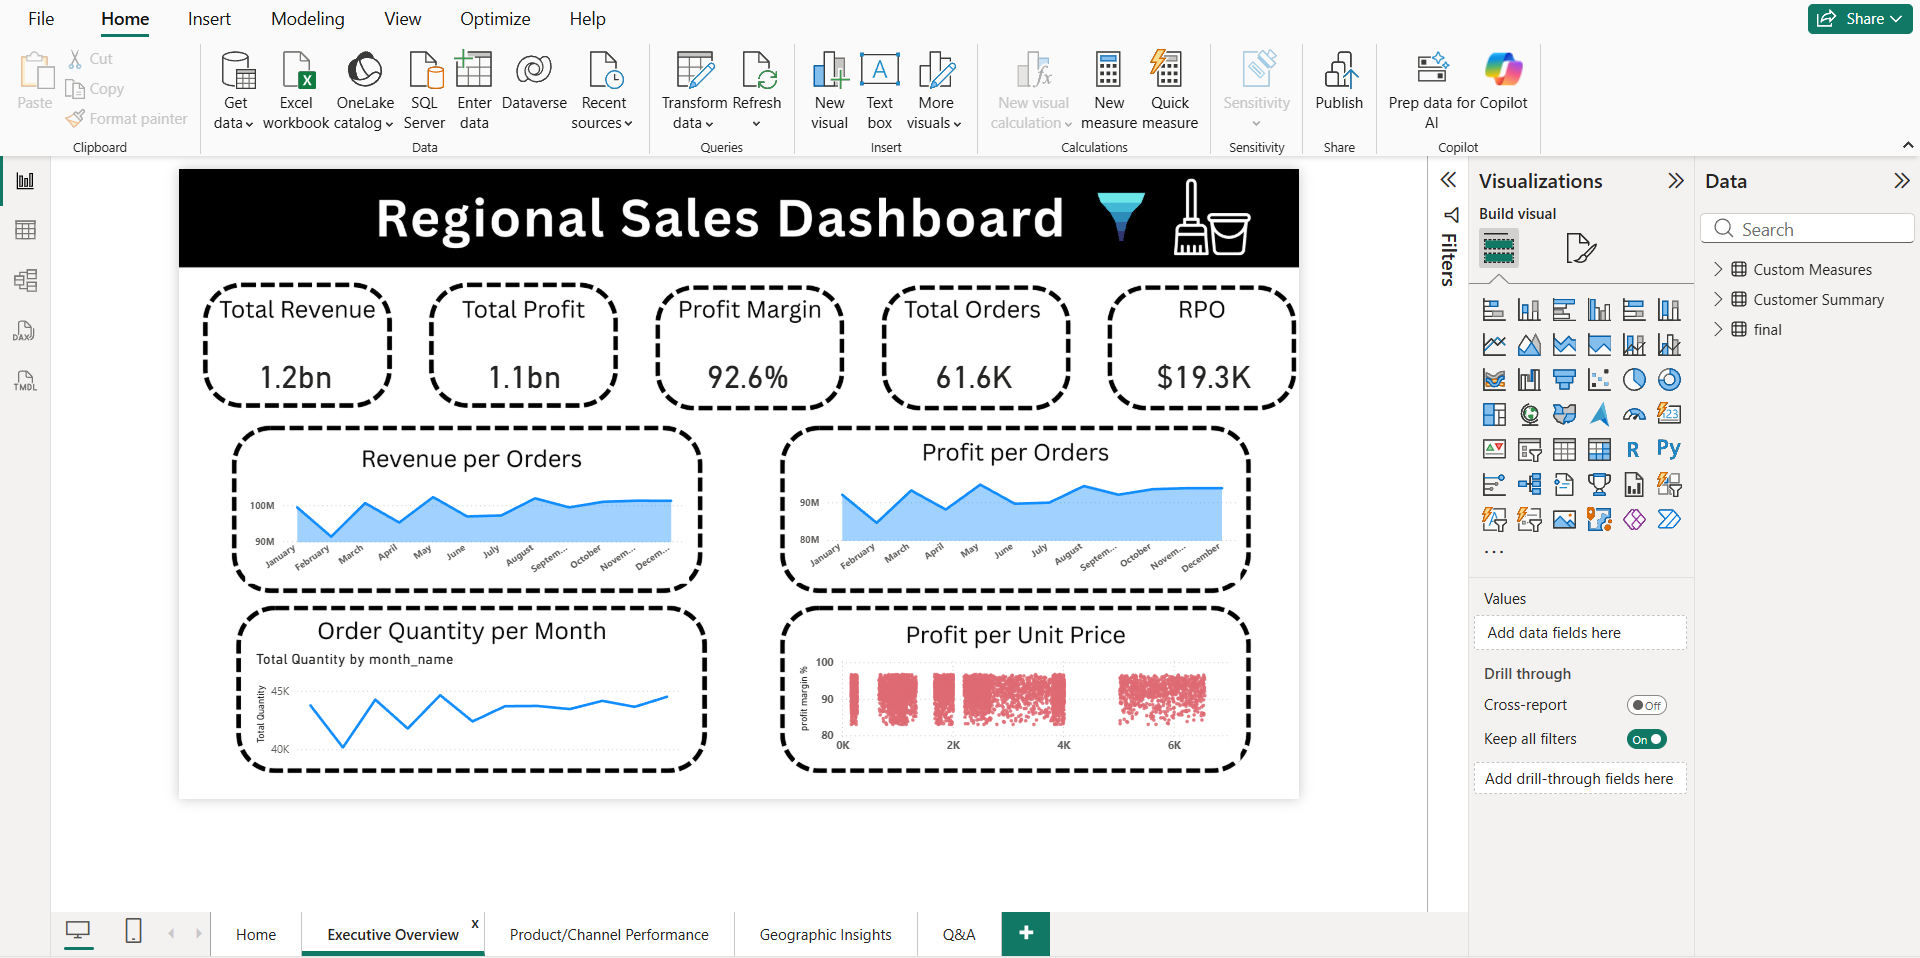

Layout of this report page (visuals, bound fields, positions):
{"tool":"powerbi","page":{"name":"Executive Overview","canvas":[1280,720],"ordinal":1},"visuals":[{"type":"card","fields":{"Values":["Sum(final.revenue)"]},"box":[38.6,182.9,188.6,102.9],"z":0},{"type":"card","fields":{"Values":["Sum(final.profit)"]},"box":[300,182.9,188.6,102.9],"z":1000},{"type":"card","fields":{"Values":["Custom Measures (2).Profit Margin %"]},"box":[555.7,182.9,188.6,102.9],"z":2000},{"type":"card","fields":{"Values":["Custom Measures (2).Total Orders"]},"box":[814.3,182.9,188.6,102.9],"z":3000},{"type":"card","fields":{"Values":["Custom Measures (2).Revenue Per Orders"]},"box":[1077.1,182.9,188.6,102.9],"z":4000},{"type":"lineChart","fields":{"Category":["final.month_name"],"Y":["Sum(final.revenue)"]},"box":[76.2,350,507.5,123.8],"z":5000},{"type":"lineChart","fields":{"Category":["final.month_name"],"Y":["Sum(final.profit)"]},"box":[703.8,346.2,508.8,127.5],"z":6000},{"type":"scatterChart","fields":{"X":["final.unit_price"],"Y":["final.profit margin %"]},"box":[705,550,508.8,127.5],"z":7000},{"type":"lineChart","fields":{"Category":["final.month_name"],"Y":["Custom Measures (2).Total Quantity"]},"box":[82.5,550,495,127.5],"z":7001}]}

Visuals, with their boxes on the page's 1280x720 design canvas (x1, y1, x2, y2). These are canvas units, not pixel positions in the 1920x958 screenshot, which may show the page scaled, cropped or inside an application window:
card - Sum(final.revenue): x1=39, y1=183, x2=227, y2=286
card - Sum(final.profit): x1=300, y1=183, x2=489, y2=286
card - Custom Measures (2).Profit Margin %: x1=556, y1=183, x2=744, y2=286
card - Custom Measures (2).Total Orders: x1=814, y1=183, x2=1003, y2=286
card - Custom Measures (2).Revenue Per Orders: x1=1077, y1=183, x2=1266, y2=286
lineChart - final.month_name x Sum(final.revenue): x1=76, y1=350, x2=584, y2=474
lineChart - final.month_name x Sum(final.profit): x1=704, y1=346, x2=1213, y2=474
scatterChart - final.unit_price x final.profit margin %: x1=705, y1=550, x2=1214, y2=678
lineChart - final.month_name x Custom Measures (2).Total Quantity: x1=82, y1=550, x2=578, y2=678
